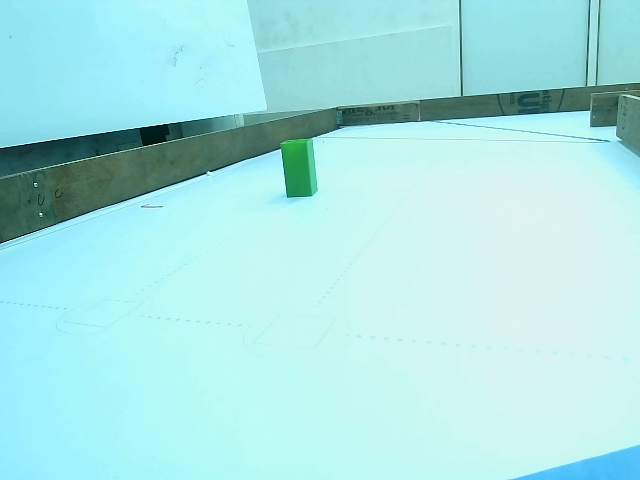green: (283, 140, 318, 193)
